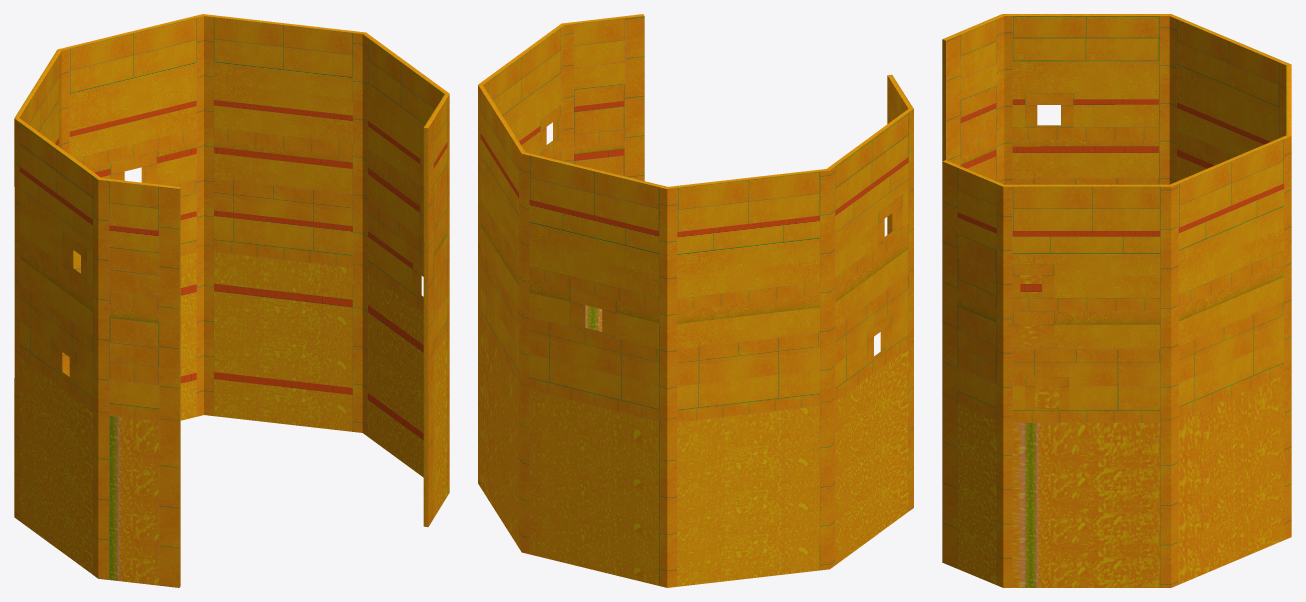
File: FacilityWalls_01_SM_Low.fbx
3 views of the same model, side by side, from view 1: azimuth 30°, elevation 25°; view 2: azimuth 150°, elevation 25°; view 3: azimuth 270°, elevation 25° (orthographic).
Visible parts, largest first — view 1: facility_wall_geo; view 2: facility_wall_geo; view 3: facility_wall_geo.
Boxes of the visible parts, x1=… form: facility_wall_geo: x1=14, y1=14, x2=449, y2=587; facility_wall_geo: x1=478, y1=14, x2=913, y2=587; facility_wall_geo: x1=942, y1=14, x2=1291, y2=587.
Size of the model in its own units: 3624 by 3924 by 3095.
Materials: 1 (1 with a texture image).
